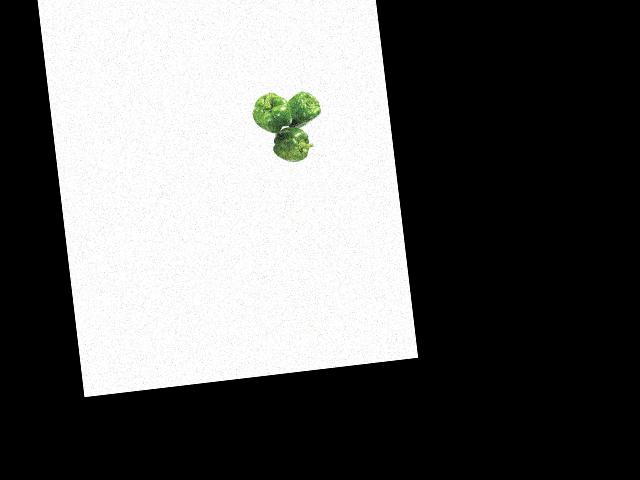bell_pepper: (246, 86, 295, 135)
